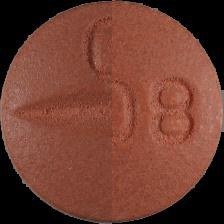68462-208: (0, 0, 224, 224)
